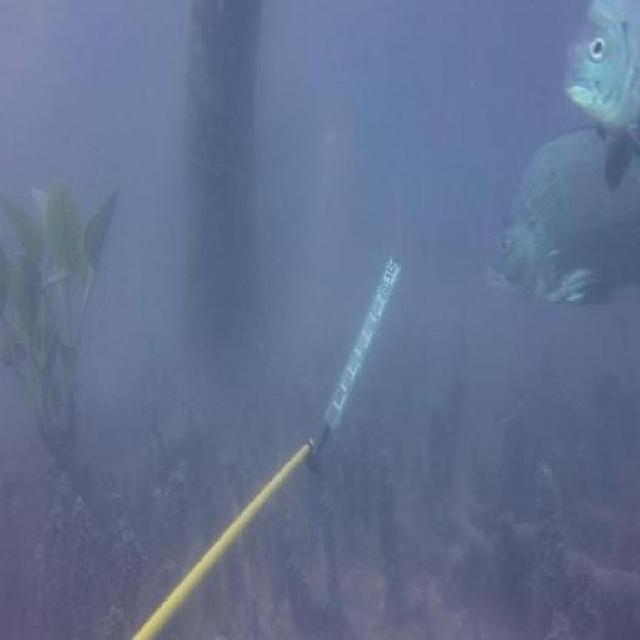acanthopagrus_palmaris: (481, 120, 640, 314), (563, 1, 640, 184)
